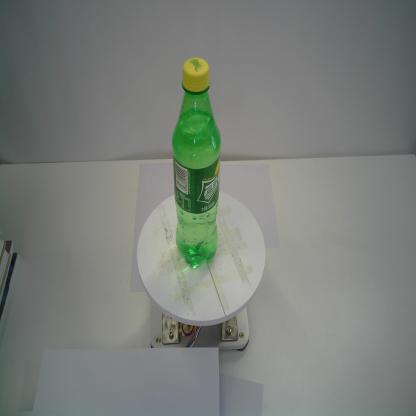Drink: (168, 56, 223, 271)
